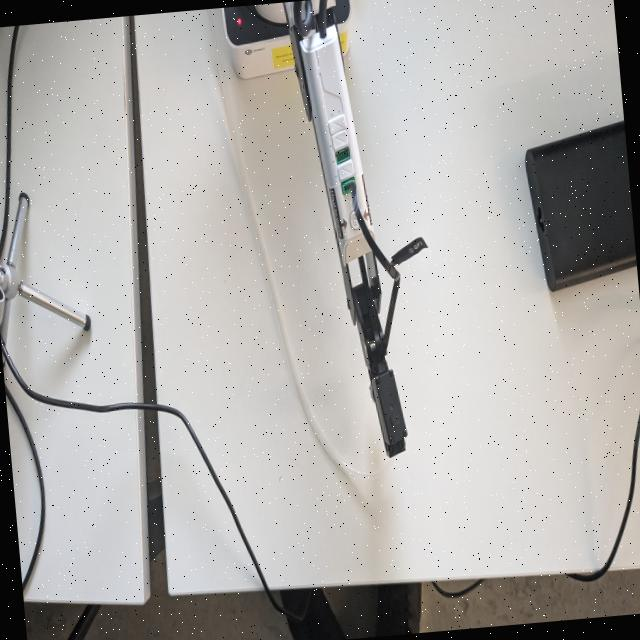Robot-end-effector-HF8z: (362, 356, 414, 464)
